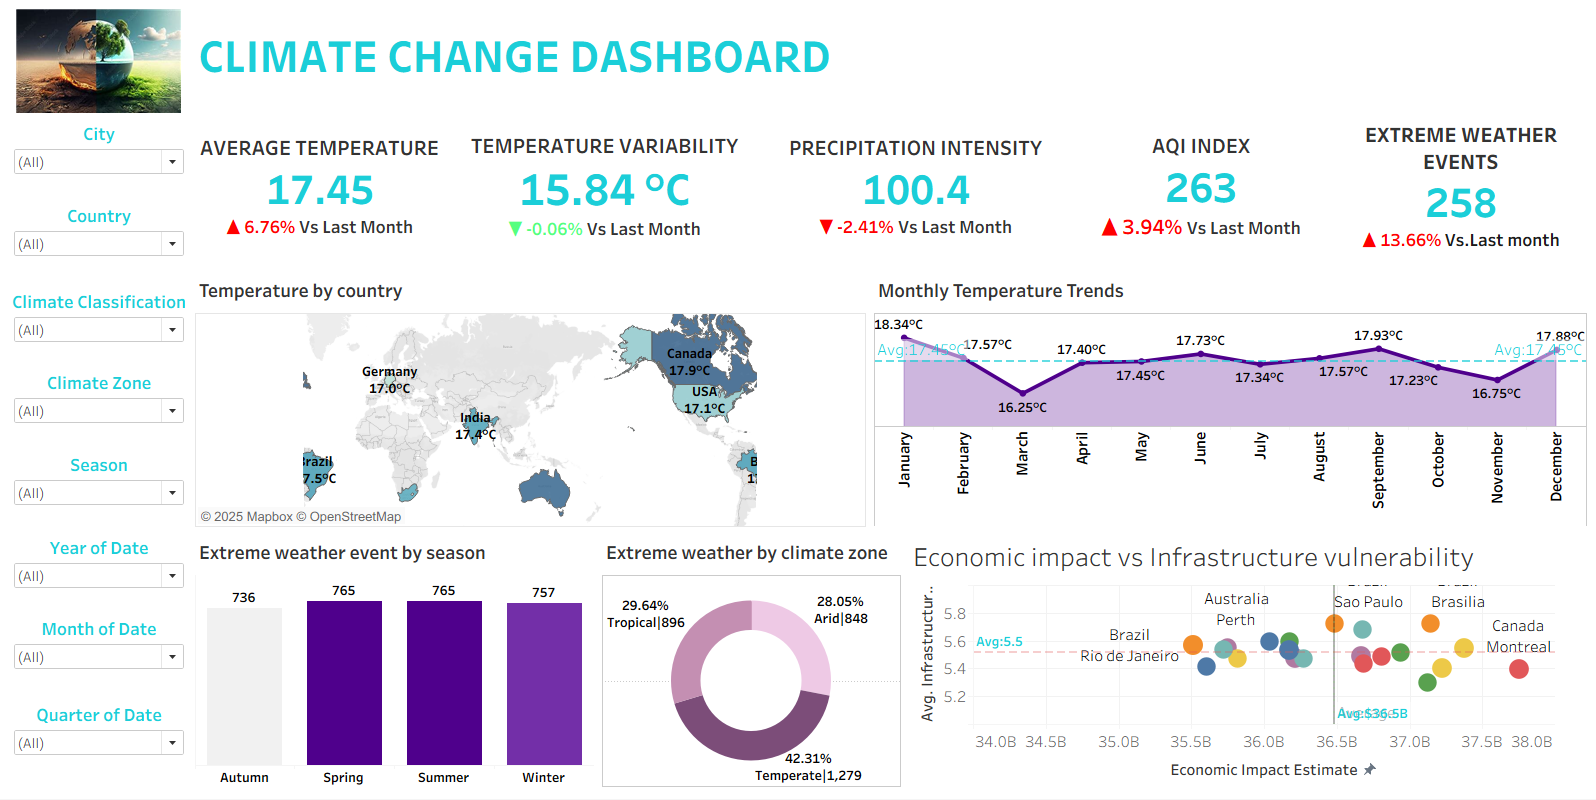

Layout of this report page (visuals, bound fields, positions):
{"tool":"tableau","page":{"name":"Dashboard 1","canvas":[1000,1000],"units":"permille","ordinal":0},"visuals":[{"type":"image","param":"Image/OIP (4).jpg","box":[5,10,115,139.7]},{"type":"text","box":[120,10,875,123.4]},{"type":"worksheet","title":"Temperature","mark":"Automatic","box":[120,133.4,162.1,205.7]},{"type":"worksheet","title":"TEMPERATURE VARIABILTY","mark":"Automatic","box":[282.1,133.4,193.8,205.7]},{"type":"worksheet","title":"Precipitation Intensity","mark":"Automatic","box":[475.8,133.4,195,205.7]},{"type":"worksheet","title":"AQI","mark":"Automatic","box":[670.8,133.4,162.1,205.7]},{"type":"worksheet","title":"EWE","mark":"Automatic","box":[832.9,133.4,162.1,205.7]},{"type":"filter","title":"Economic impact vs Infrastructure vulnerability","param":"[federated.1via8eg1b8ju4h14tq4bq0czw697].[none:city:nk]","box":[5,149.6,115,102.2]},{"type":"filter","title":"Economic impact vs Infrastructure vulnerability","param":"[federated.1via8eg1b8ju4h14tq4bq0czw697].[none:country:nk]","box":[5,251.9,115,107.2]},{"type":"worksheet","title":"Temperature by country","mark":"Automatic","box":[120,339.2,424.4,327.2]},{"type":"worksheet","title":"Monthly Temperature Trends","mark":"Area","rows":["Calculation_415738579803795475","Calculation_415738579803795475"],"cols":["date"],"box":[544.4,339.2,450.6,327.2]},{"type":"filter","title":"Economic impact vs Infrastructure vulnerability","param":"[federated.1via8eg1b8ju4h14tq4bq0czw697].[none:climate_classification:nk]","box":[5,359.1,115,101]},{"type":"filter","title":"Economic impact vs Infrastructure vulnerability","param":"[federated.1via8eg1b8ju4h14tq4bq0czw697].[none:climate_zone:nk]","box":[5,460.1,115,102.2]},{"type":"filter","title":"Economic impact vs Infrastructure vulnerability","param":"[federated.1via8eg1b8ju4h14tq4bq0czw697].[none:season:nk]","box":[5,562.4,115,102.2]},{"type":"filter","title":"Extreme weather by climate zone","param":"[federated.1via8eg1b8ju4h14tq4bq0czw697].[yr:date:ok]","box":[5,665.8,115,101]},{"type":"worksheet","title":"Extreme weather event by season","mark":"Automatic","rows":["Calculation_415738579786055680"],"cols":["season"],"box":[120,666.3,254.4,323.7]},{"type":"worksheet","title":"Extreme weather by climate zone","mark":"Pie","rows":["Calculation_415738579821215779","Calculation_415738579821215779"],"box":[374.4,666.3,191.9,323.7]},{"type":"worksheet","title":"Economic impact vs Infrastructure vulnerability","mark":"Circle","rows":["infrastructure_vulnerability_score"],"cols":["economic_impact_estimate"],"box":[566.3,666.3,409.1,323.7]},{"type":"blank","box":[975.3,666.3,19.7,323.7]},{"type":"filter","title":"Extreme weather event by season","param":"[federated.1via8eg1b8ju4h14tq4bq0czw697].[mn:date:ok]","box":[5,766.8,115,107.2]},{"type":"filter","title":"Extreme weather event by season","param":"[federated.1via8eg1b8ju4h14tq4bq0czw697].[qr:date:ok]","box":[5,874.1,115,79.8]}]}

Visuals, with their boxes on the dashboard's canvas, which has no fixed pixel size, in thousandths of its width and height (x1, y1, x2, y2). These are canvas units, not pixel positions in the 1596x800 screenshot, which may show the page scaled, cropped or inside an application window:
image: (5,10,120,150)
text: (120,10,995,133)
"Temperature" worksheet: (120,133,282,339)
"TEMPERATURE VARIABILTY" worksheet: (282,133,476,339)
"Precipitation Intensity" worksheet: (476,133,671,339)
"AQI" worksheet: (671,133,833,339)
"EWE" worksheet: (833,133,995,339)
"Economic impact vs Infrastructure vulnerability" filter: (5,150,120,252)
"Economic impact vs Infrastructure vulnerability" filter: (5,252,120,359)
"Temperature by country" worksheet: (120,339,544,666)
"Monthly Temperature Trends" worksheet (Area marks): (544,339,995,666)
"Economic impact vs Infrastructure vulnerability" filter: (5,359,120,460)
"Economic impact vs Infrastructure vulnerability" filter: (5,460,120,562)
"Economic impact vs Infrastructure vulnerability" filter: (5,562,120,665)
"Extreme weather by climate zone" filter: (5,666,120,767)
"Extreme weather event by season" worksheet: (120,666,374,990)
"Extreme weather by climate zone" worksheet (Pie marks): (374,666,566,990)
"Economic impact vs Infrastructure vulnerability" worksheet (Circle marks): (566,666,975,990)
blank: (975,666,995,990)
"Extreme weather event by season" filter: (5,767,120,874)
"Extreme weather event by season" filter: (5,874,120,954)
